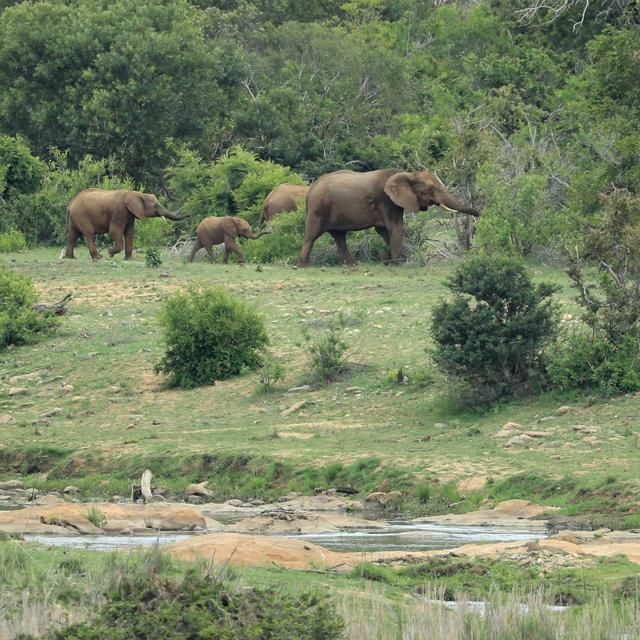Elephant: (297, 160, 480, 275), (52, 181, 185, 276), (193, 206, 259, 272)
